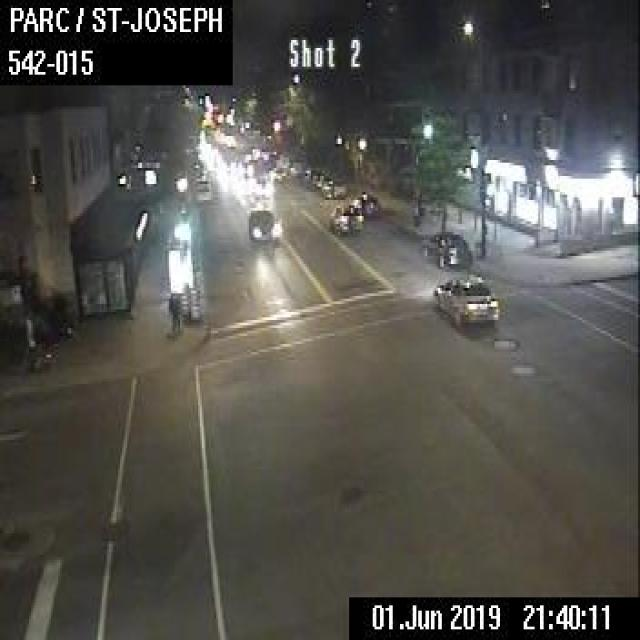construction: (179, 280, 189, 320), (188, 285, 198, 320)
pedestrian: (165, 285, 180, 336)
vehicle: (431, 272, 498, 331), (420, 229, 471, 267), (328, 202, 362, 234), (246, 208, 280, 239), (351, 188, 378, 216), (303, 166, 329, 189), (320, 173, 346, 195), (192, 176, 210, 200)
